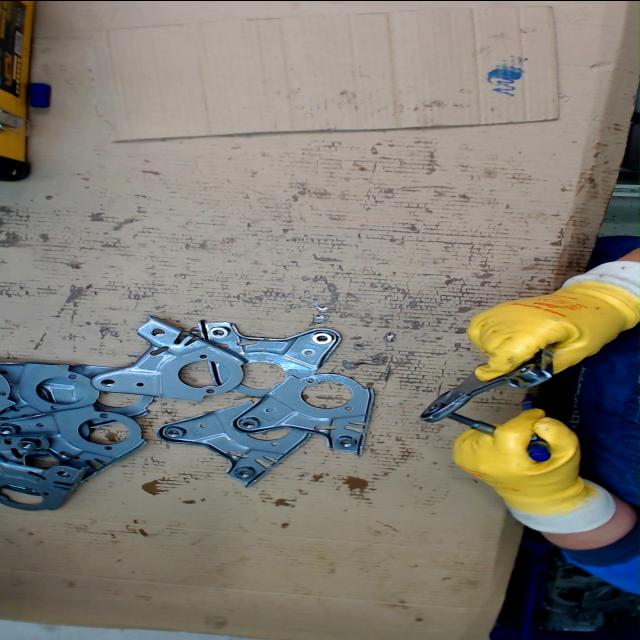hands: (466, 288, 640, 381), (452, 406, 590, 511)
